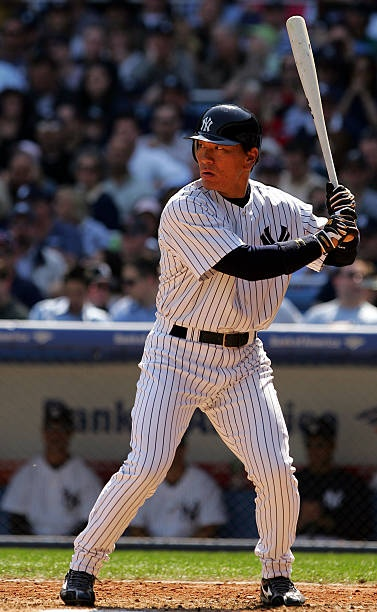bita: (281, 8, 352, 217)
